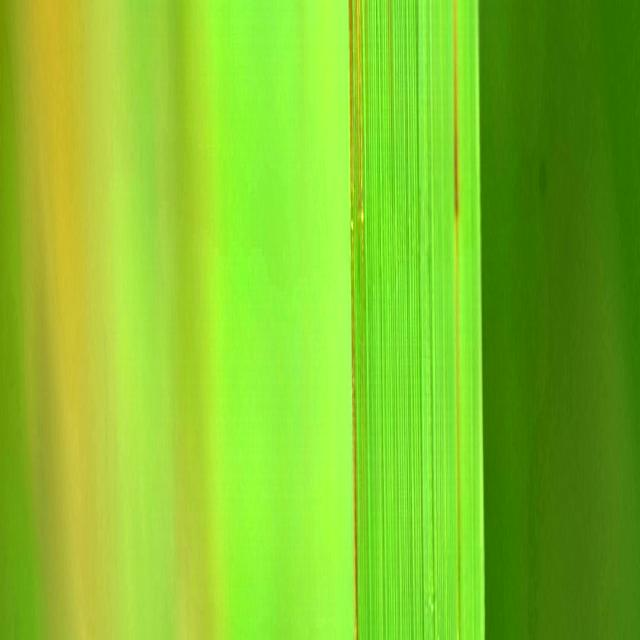BLS: (349, 0, 358, 640), (355, 0, 364, 313), (453, 0, 460, 324), (390, 0, 391, 26)
